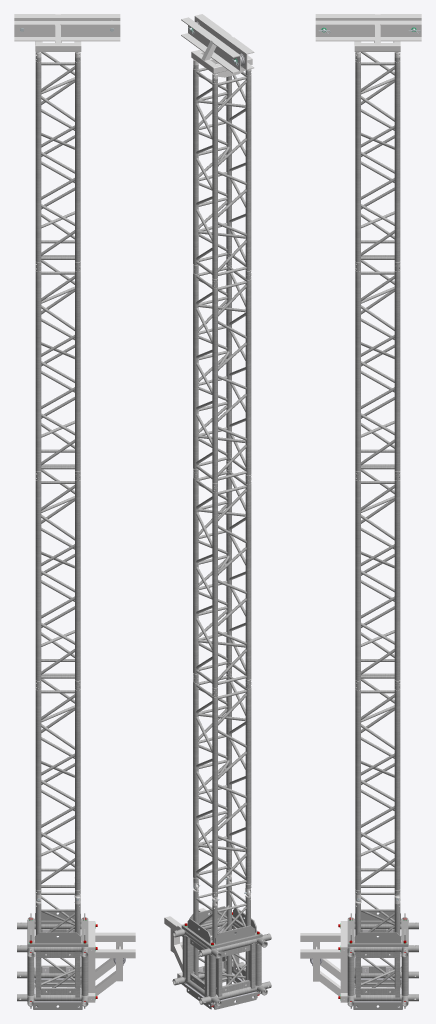
Rendered from Milos_MT2_Tower_assembly_9M-303cb99c.glb.
3 renders of one model, left to right at view 1: azimuth 90°, elevation 25°; view 2: azimuth 210°, elevation 25°; view 3: azimuth 270°, elevation 25°, orthographic. The views are drawn at different scales.
Visible parts, largest first — view 1: Geom3D (×20); view 2: Geom3D (×27); view 3: Geom3D (×20).
Part boxes in pixels (x1,y1,x2,y2): Geom3D (×20): [14, 14, 135, 1007]; Geom3D (×27): [181, 14, 262, 1007]; Geom3D (×20): [300, 14, 421, 1007].
Bounding box in the file's own units: 0.7077 × 9.36 × 1.05.
Materials: 17 (2 with a texture image).
